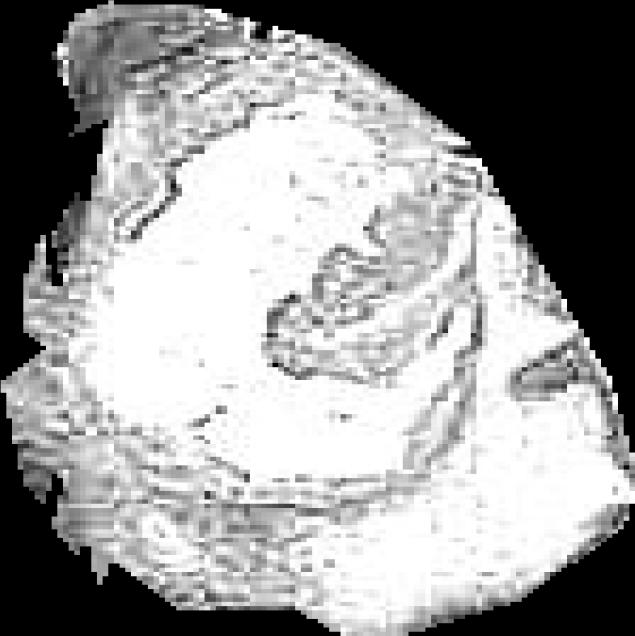tumor_less_chance: (1, 0, 635, 636)
